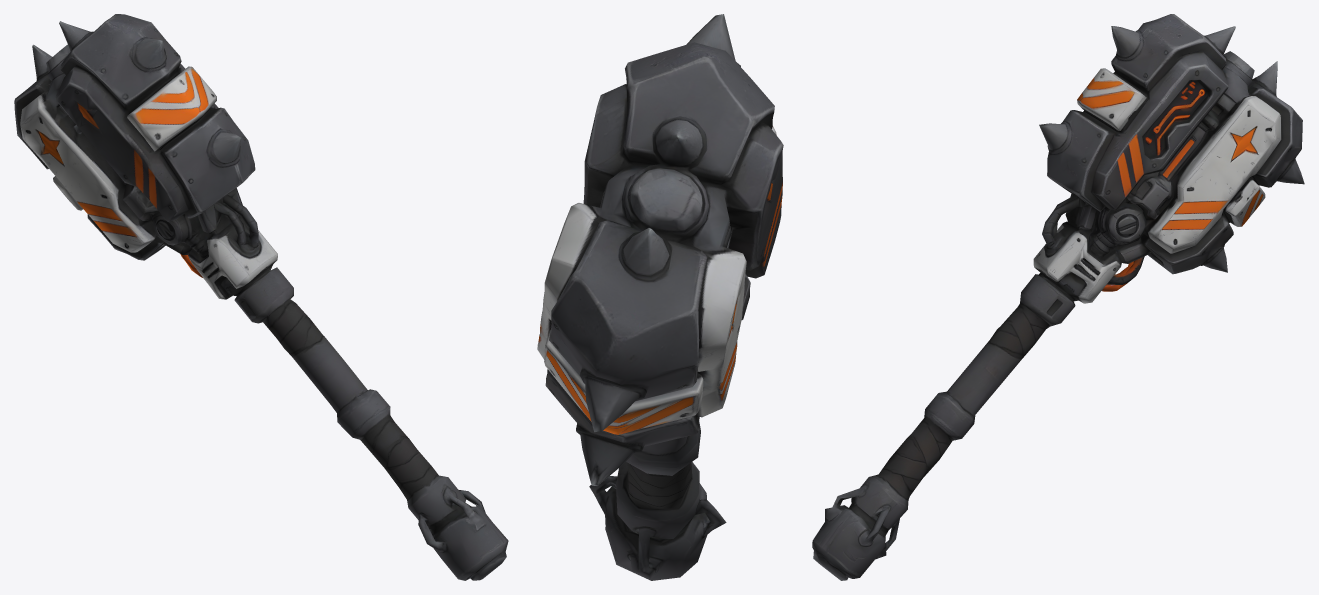
File: tripo_convert_b40391d5-20ea-4ed8-ae9a-cfad74436fbe.glb
3 views of the same model, side by side, from view 1: azimuth 30°, elevation 25°; view 2: azimuth 150°, elevation 25°; view 3: azimuth 270°, elevation 25° (orthographic). The views are drawn at different scales.
Parts seen in each view (by area): view 1: tripo_node_b40391d5-20ea-4ed8-ae9a-cfad74436fbe; view 2: tripo_node_b40391d5-20ea-4ed8-ae9a-cfad74436fbe; view 3: tripo_node_b40391d5-20ea-4ed8-ae9a-cfad74436fbe.
Boxes of the visible parts, box(x1,y1,x2,y2) form: tripo_node_b40391d5-20ea-4ed8-ae9a-cfad74436fbe: box(14, 14, 508, 580); tripo_node_b40391d5-20ea-4ed8-ae9a-cfad74436fbe: box(537, 14, 783, 580); tripo_node_b40391d5-20ea-4ed8-ae9a-cfad74436fbe: box(812, 14, 1304, 580).
Bounding box in the file's own units: 0.5915 × 0.9817 × 0.9327.
Materials: 1 (1 with a texture image).
